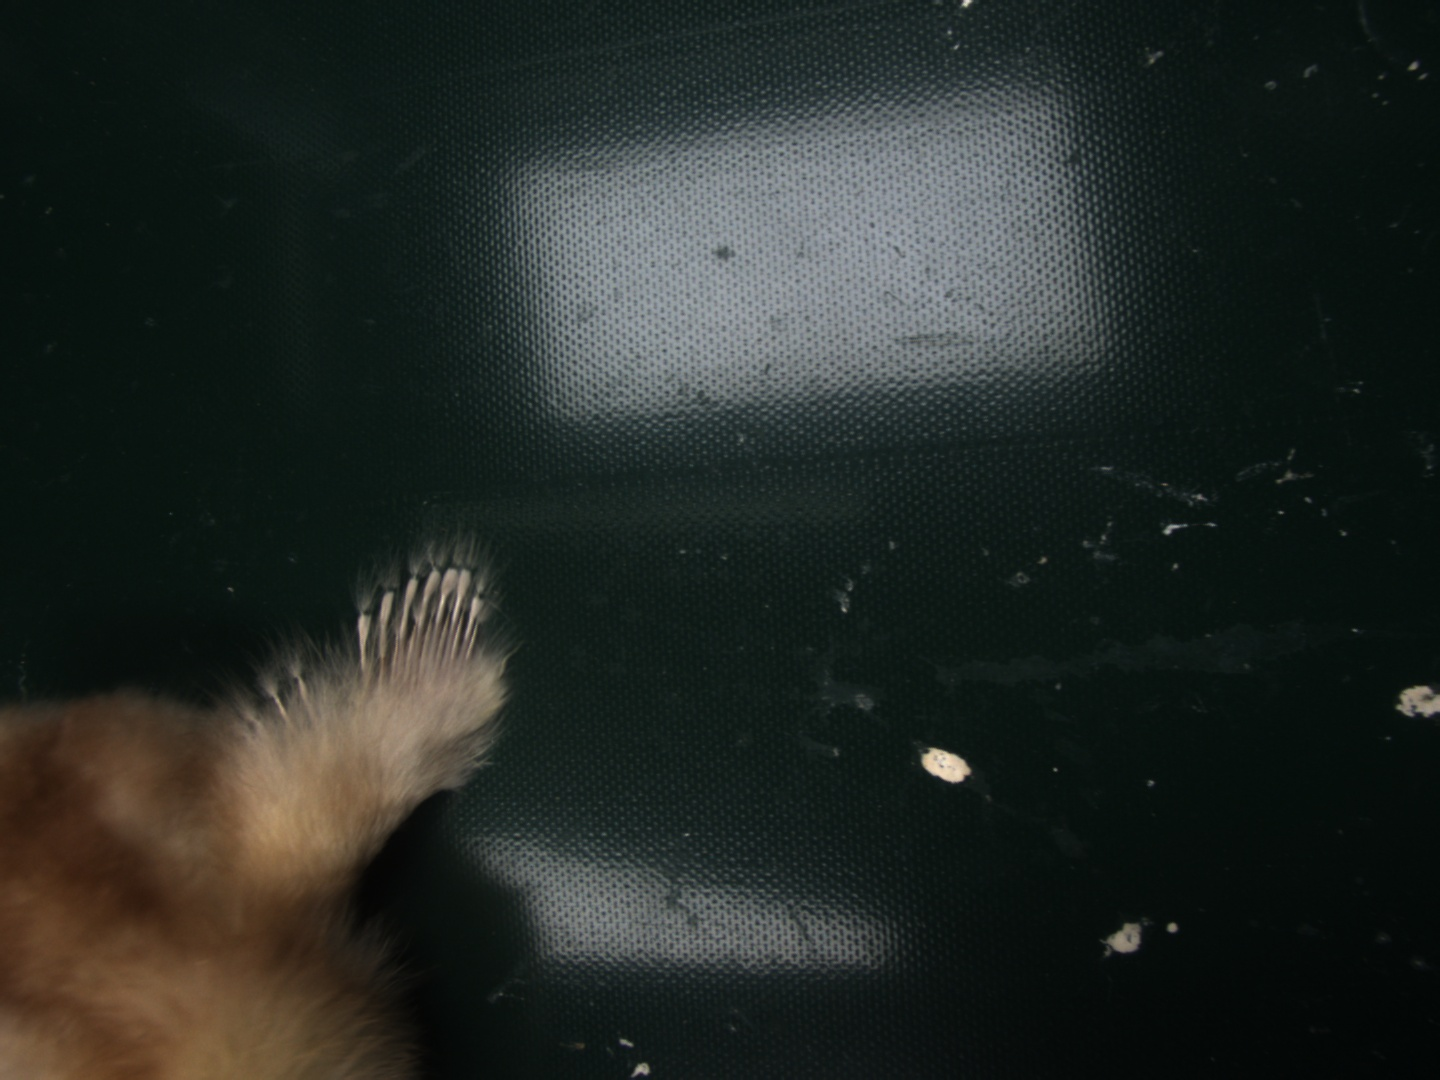female: (353, 560, 493, 675)
